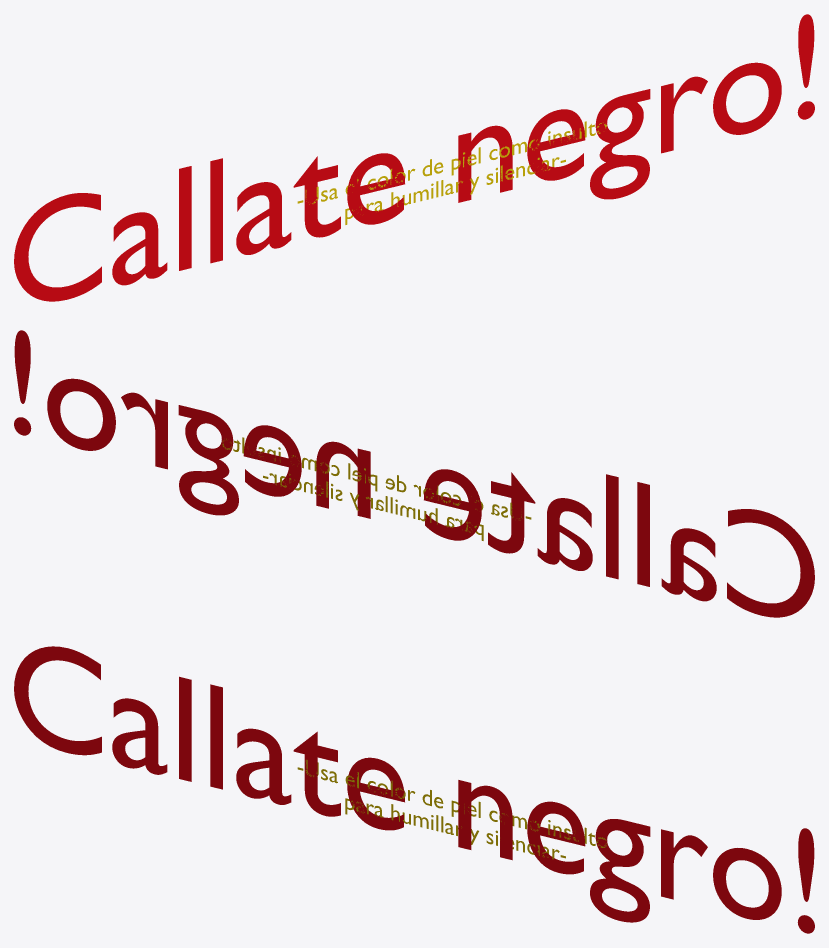
The model's file is palabras3.glb.
3 views of the same model, one above another, from view 1: azimuth 30°, elevation 25°; view 2: azimuth 150°, elevation 25°; view 3: azimuth 330°, elevation 25° (orthographic).
Parts seen in each view (by area): view 1: INDIO, INDIO.001; view 2: INDIO, INDIO.001; view 3: INDIO, INDIO.001.
Part boxes in pixels (bbox=[...]): INDIO: bbox=[14, 14, 814, 301]; INDIO.001: bbox=[297, 121, 606, 224]; INDIO: bbox=[14, 330, 814, 617]; INDIO.001: bbox=[222, 437, 531, 540]; INDIO: bbox=[14, 646, 814, 933]; INDIO.001: bbox=[297, 759, 606, 859].
Size of the model in its own units: 0.786 by 0.1295 by 3.57e-09.
